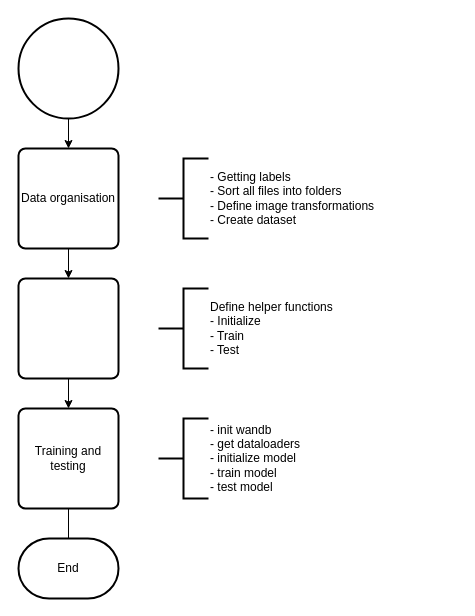
Image size: 475x616. Some labels were removed from this diagram. Each missing label, with the centre of its shape:
Model creation: point 68,328
Start: point 68,68
